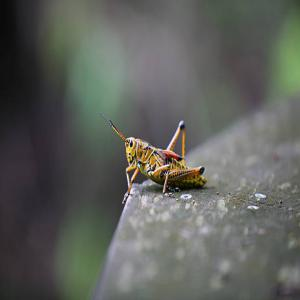locust: (107, 112, 210, 196)
